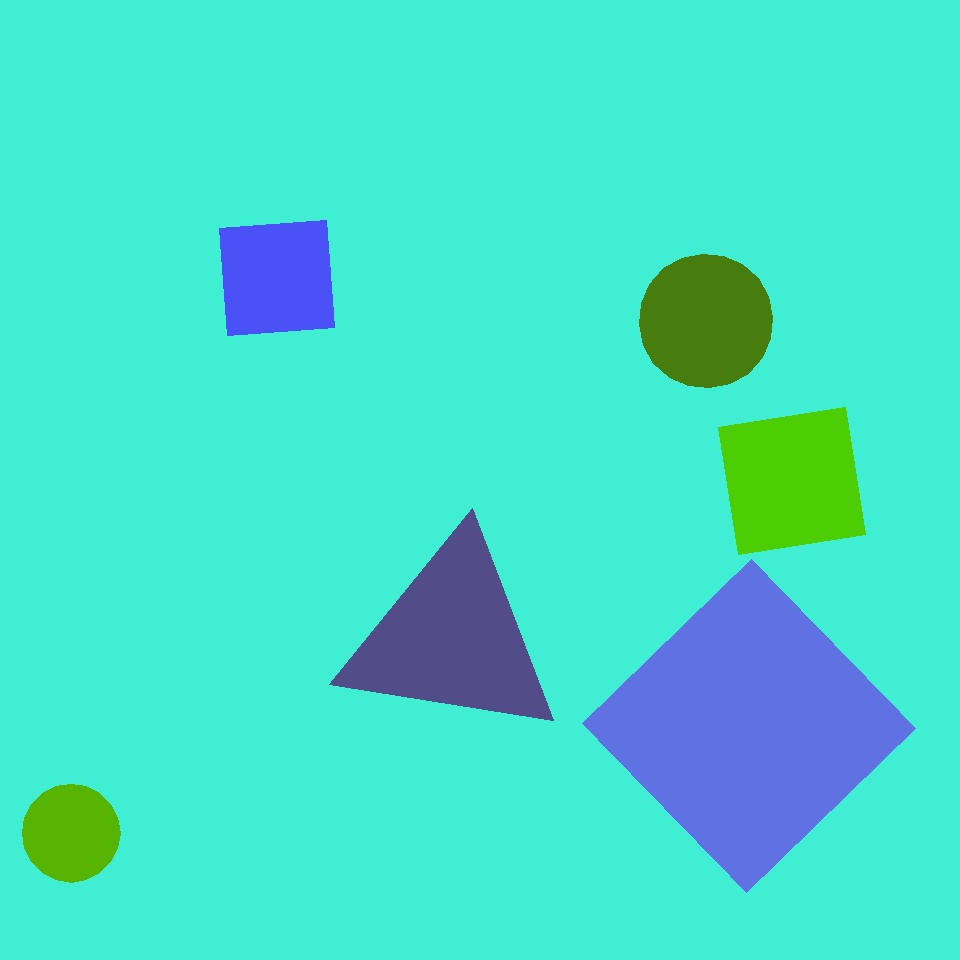circle: (340, 532, 564, 744)
square: (582, 560, 916, 892), (718, 408, 865, 554), (219, 221, 334, 336)
triangle: (640, 254, 772, 388), (22, 784, 120, 882)
